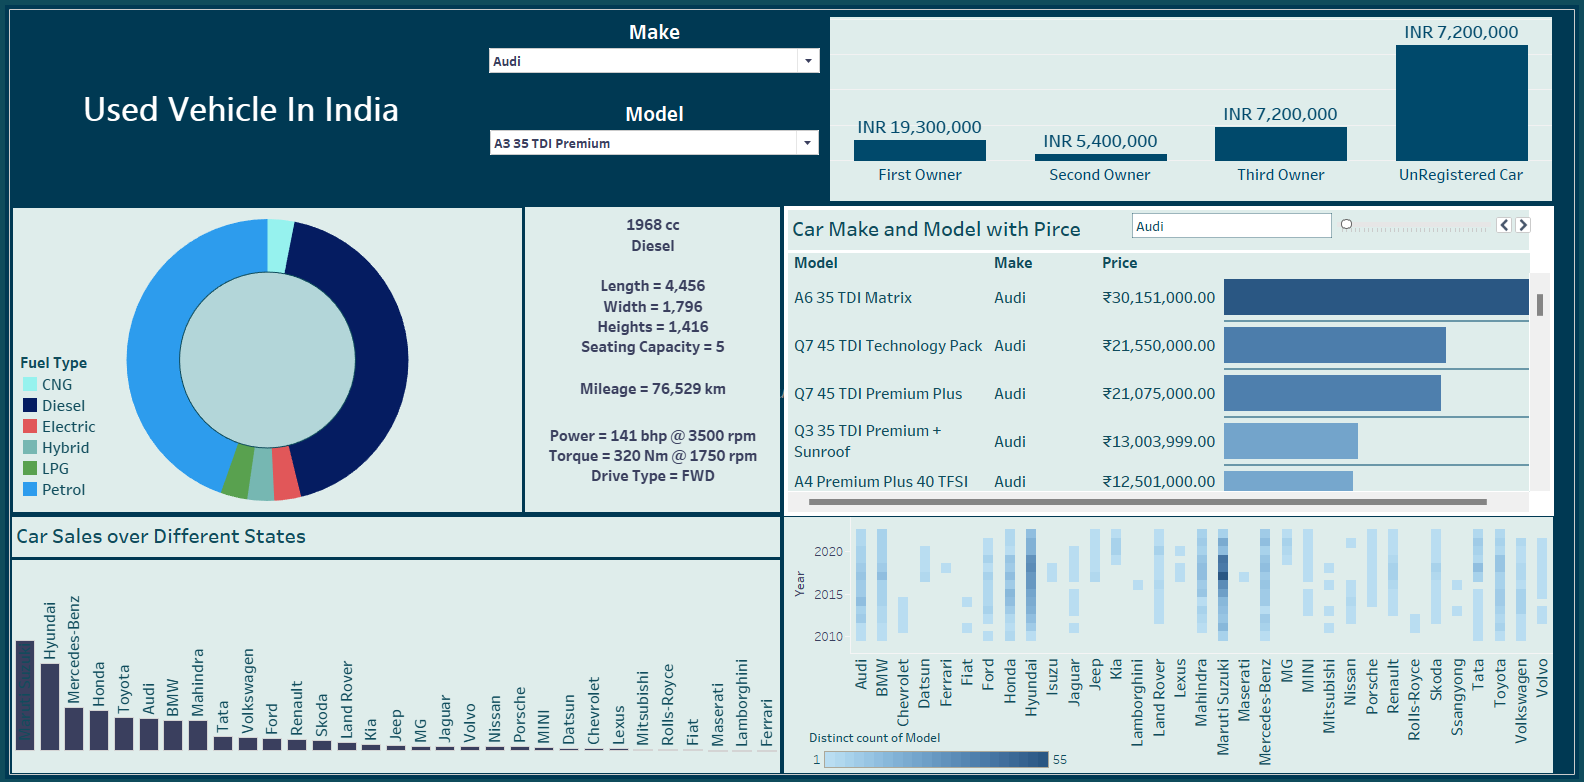

Layout of this report page (visuals, bound fields, positions):
{"tool":"tableau","page":{"name":"Dashboard 4","canvas":[1600,800],"ordinal":1},"visuals":[{"type":"image","box":[13,13,1574,774]},{"type":"worksheet","title":"Sheet 10","mark":"Bar","rows":["Price"],"cols":["Owner"],"box":[833,21,729,192]},{"type":"filter","title":"Engine Type","param":"[federated.129gxnn15kvhry1g4aad00x9n7r3].[none:Make:nk]","box":[494,25,337,83]},{"type":"text","box":[30,34,438,162]},{"type":"filter","title":"Engine Type","param":"[federated.129gxnn15kvhry1g4aad00x9n7r3].[none:Model:nk]","box":[495,107,335,87]},{"type":"filter","title":"Price in all States ","param":"[federated.129gxnn15kvhry1g4aad00x9n7r3].[none:Make:nk]","box":[1137,196,406,58]},{"type":"worksheet","title":"Price in all States ","mark":"Automatic","rows":["Model","Make","Price"],"cols":["Price"],"box":[833,211,752,313]},{"type":"worksheet","title":"Sheet 9","mark":"Pie","rows":["Calculation_1093811770181025792","Calculation_1093811770181025792"],"box":[17,212,545,312]},{"type":"worksheet","title":"Engine Type","mark":"Automatic","box":[564,215,267,57]},{"type":"worksheet","title":"Specification ","mark":"Automatic","box":[564,269,267,112]},{"type":"legend","title":"Sheet 9","param":"[federated.129gxnn15kvhry1g4aad00x9n7r3].[none:Fuel Type:nk]","box":[28,360,127,148]},{"type":"worksheet","title":"Power And Torque (2)","mark":"Automatic","box":[564,376,267,39]},{"type":"worksheet","title":"Power And Torque","mark":"Automatic","box":[564,407,267,113]},{"type":"worksheet","title":"Make And owner Count","mark":"Bar","rows":["Owner"],"cols":["Make"],"box":[16,521,776,264]},{"type":"worksheet","title":"Sales Over Years","mark":"Square","rows":["Year"],"cols":["Make"],"box":[788,521,777,264]}]}

Visuals, with their boxes in screenshot pixels (x1, y1, x2, y2), scaled from the page's 1600x800 canvas onto the 1584x782 screenshot:
image: region(13, 13, 1571, 769)
"Sheet 10" worksheet (Bar marks): region(825, 21, 1546, 208)
"Engine Type" filter: region(489, 24, 823, 106)
text: region(30, 33, 463, 192)
"Engine Type" filter: region(490, 105, 822, 190)
"Price in all States " filter: region(1126, 192, 1528, 248)
"Price in all States " worksheet: region(825, 206, 1569, 512)
"Sheet 9" worksheet (Pie marks): region(17, 207, 556, 512)
"Engine Type" worksheet: region(558, 210, 823, 266)
"Specification " worksheet: region(558, 263, 823, 372)
"Sheet 9" legend: region(28, 352, 153, 497)
"Power And Torque (2)" worksheet: region(558, 368, 823, 406)
"Power And Torque" worksheet: region(558, 398, 823, 508)
"Make And owner Count" worksheet (Bar marks): region(16, 509, 784, 767)
"Sales Over Years" worksheet (Square marks): region(780, 509, 1549, 767)
